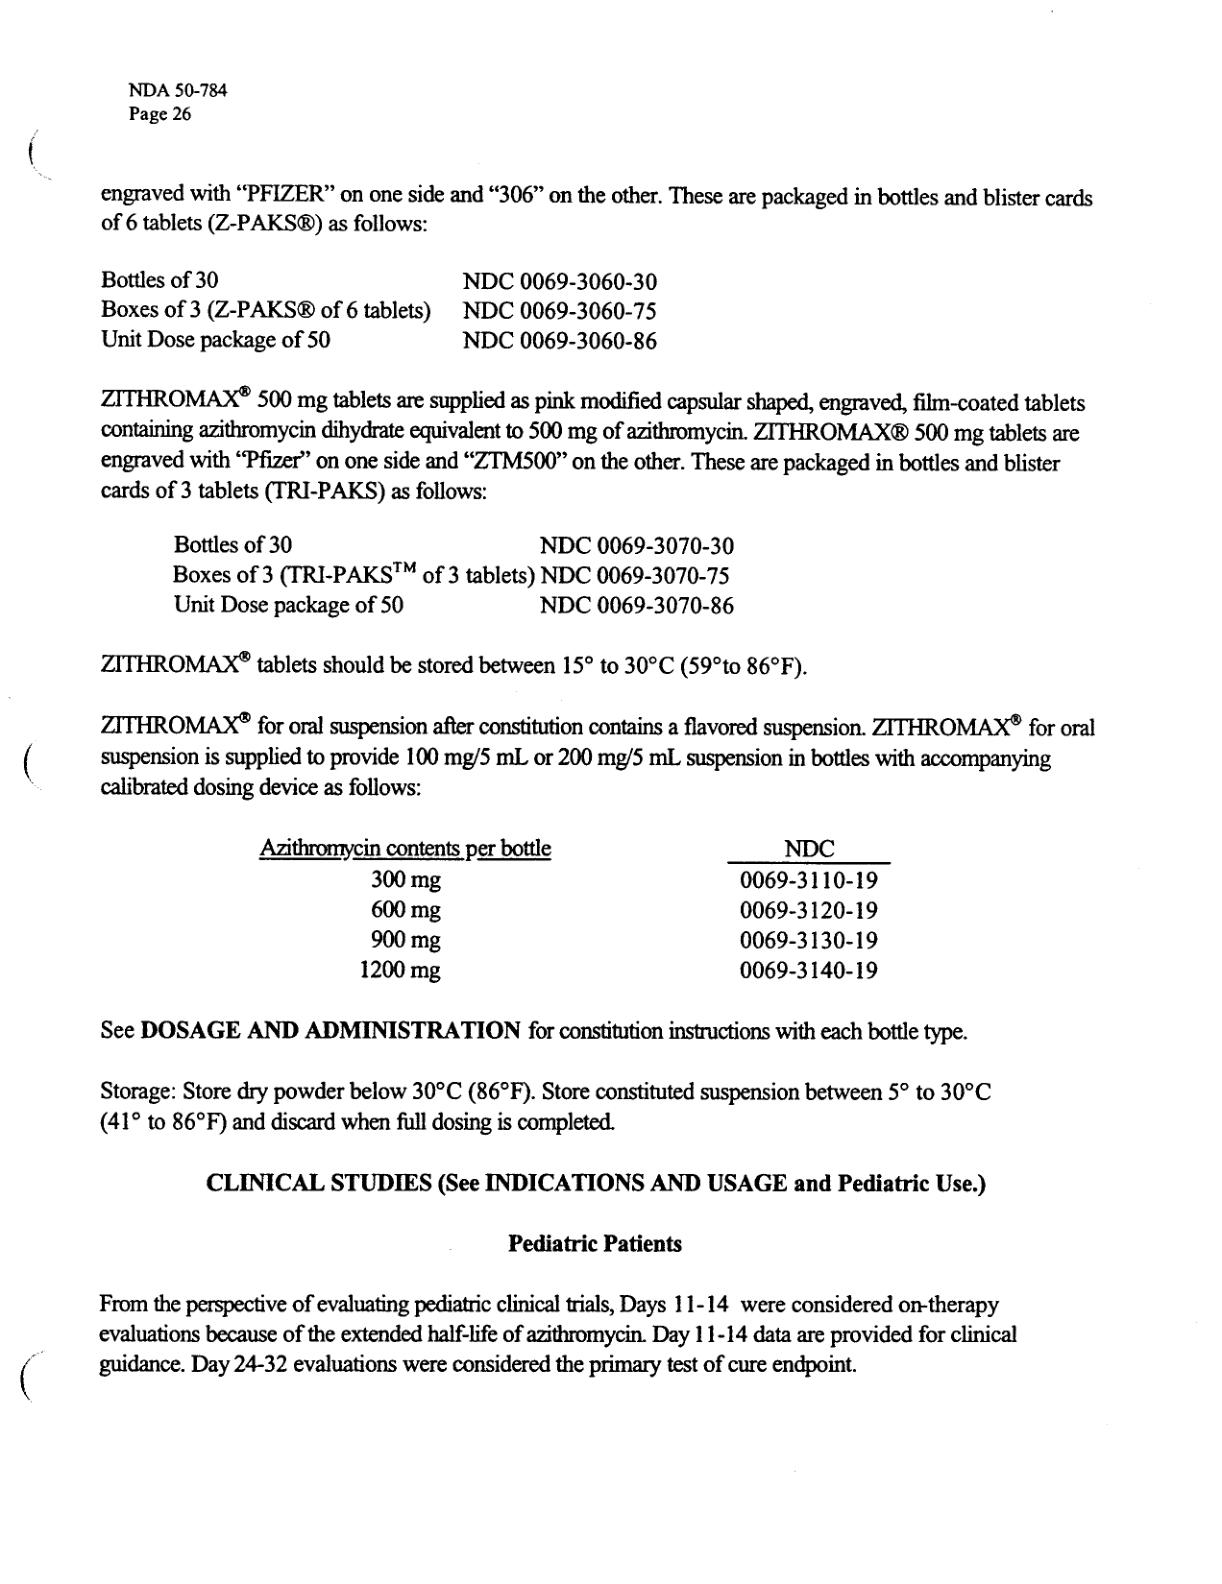nolines: (255, 832, 892, 985), (171, 531, 737, 617), (101, 268, 660, 354)
